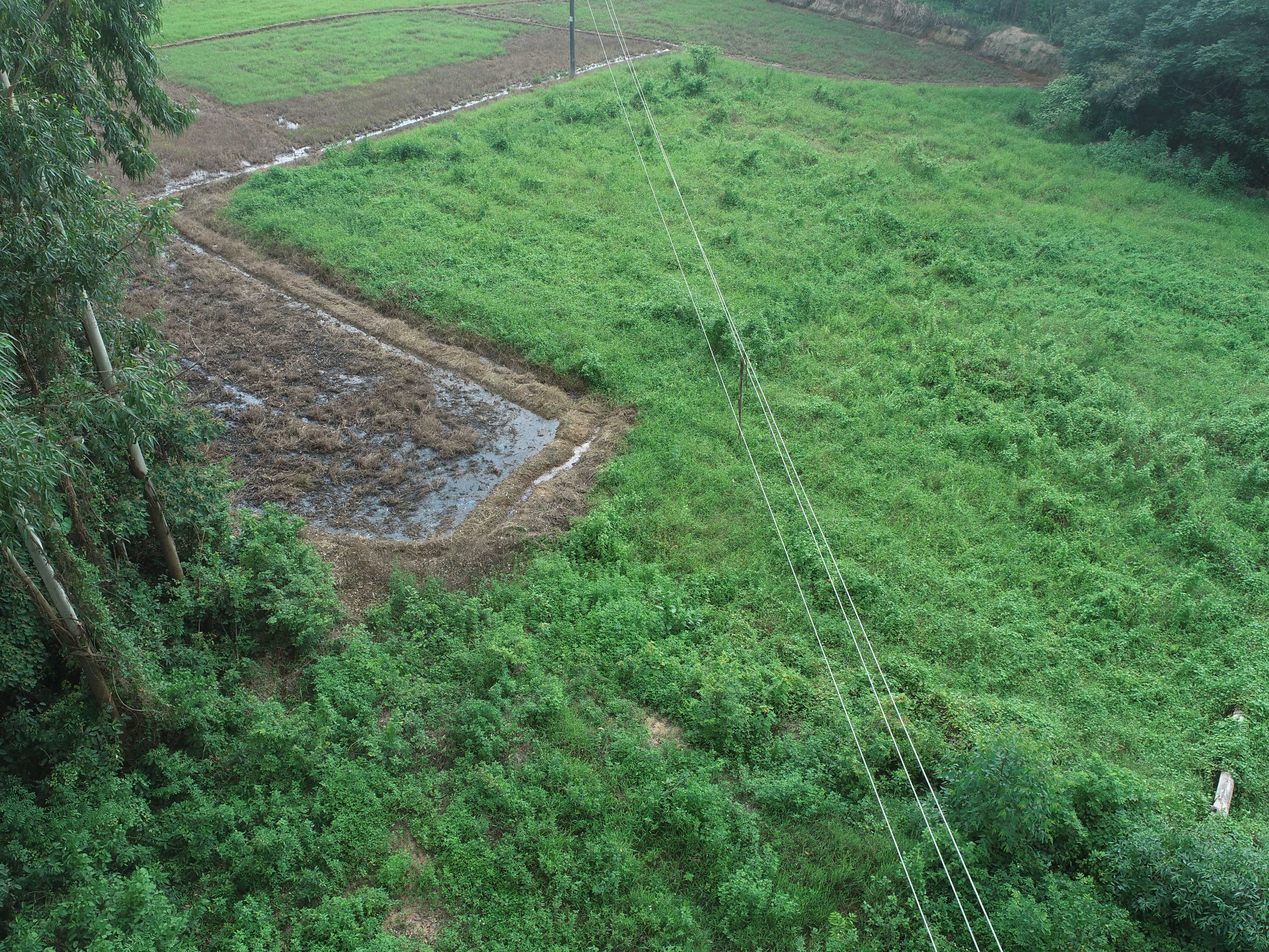异物: (737, 350, 748, 446)
